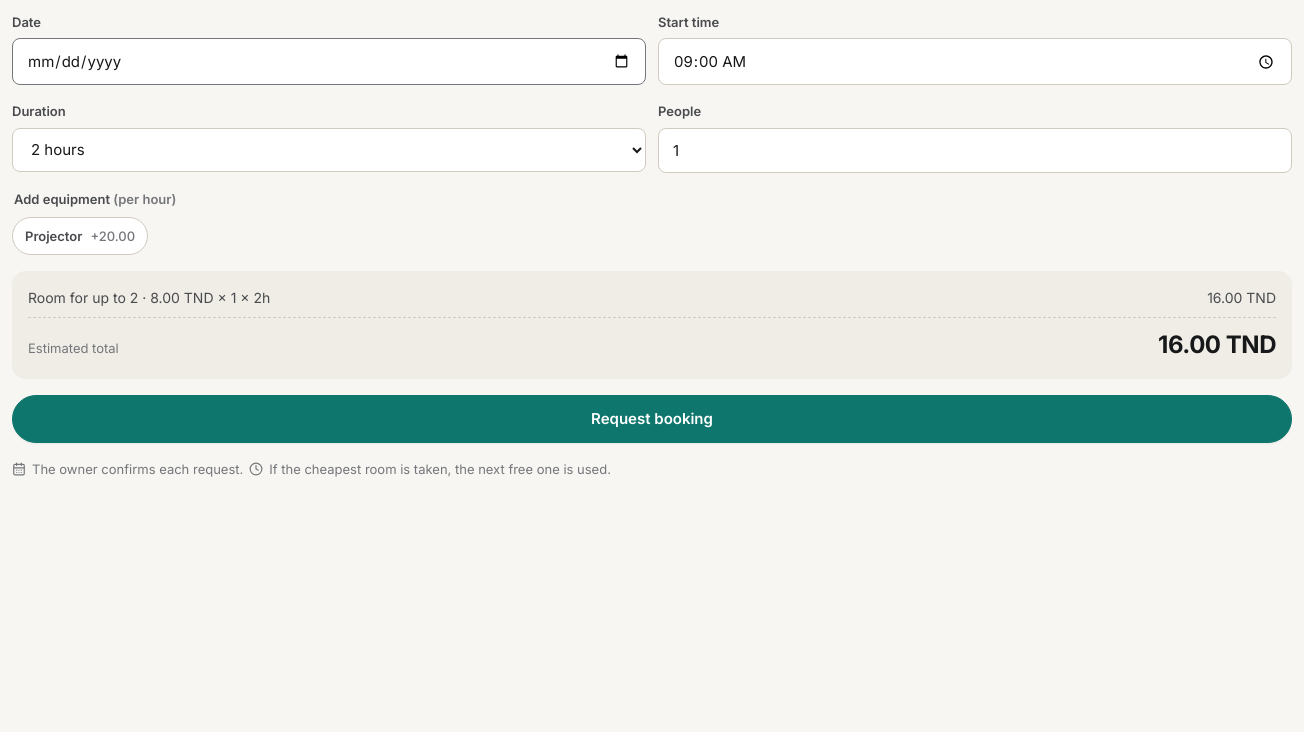
Test: BookingForm › requires a date and focuses it
This screenshot has width=1304, height=732.
Click the button "Request booking" at {"x": 652, "y": 419}, box [12,395,1292,443]
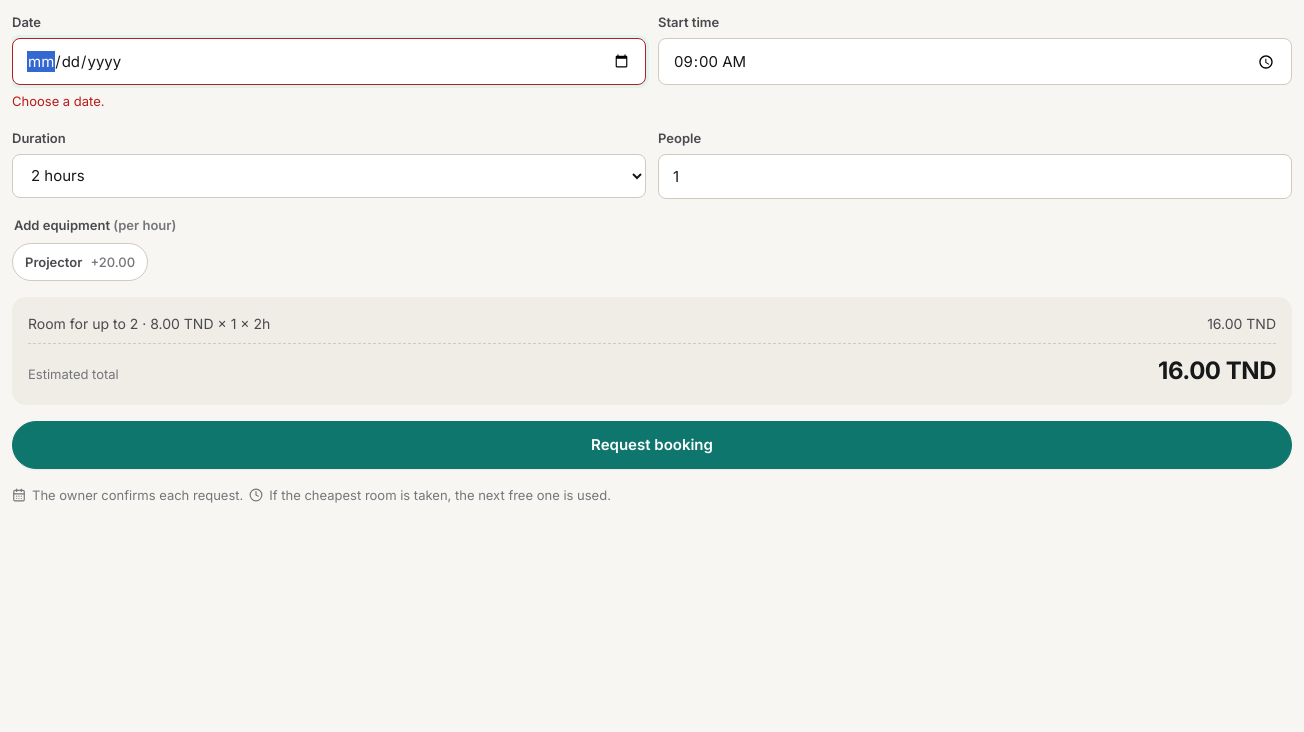
Now the text "Choose a date." is shown, box [12,93,104,109]
